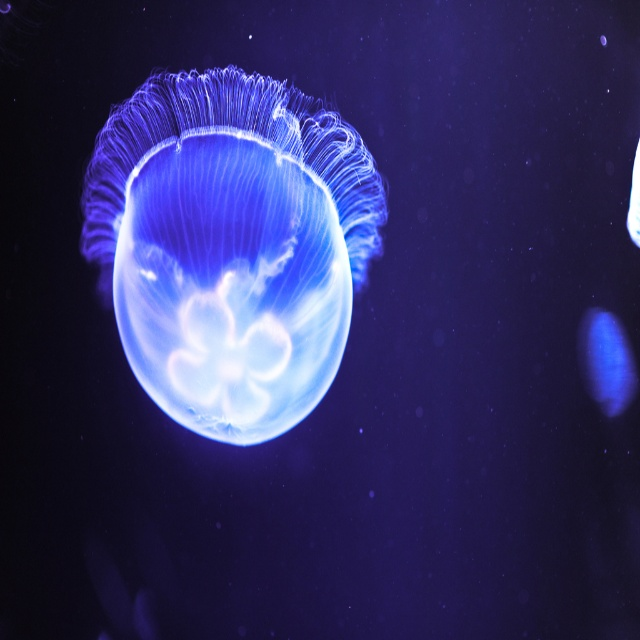Jellyfish: (80, 58, 387, 456)
